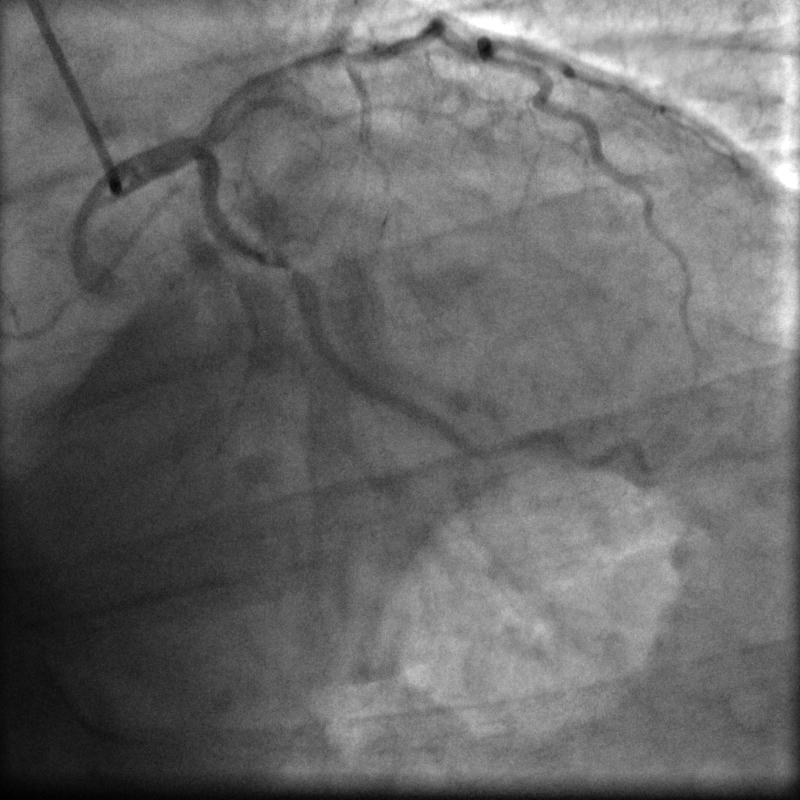Stenosis: (267, 253, 310, 281)
